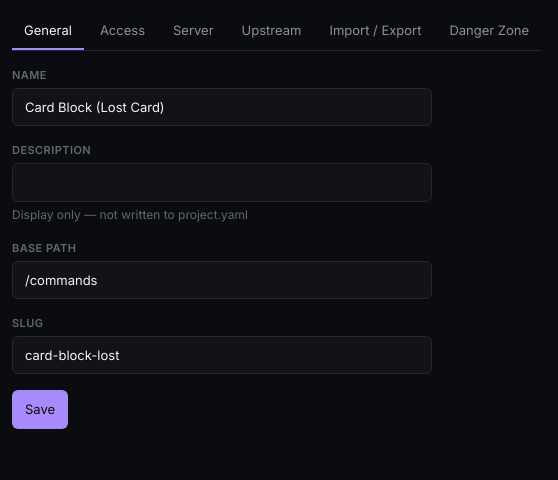
Test case: SettingsTabs › General tab saves for real via PATCH
What coordinates should you click on to do the following:
click the button "Save"
I would click on:
 (40, 410)
Its box is [12,390,68,429].
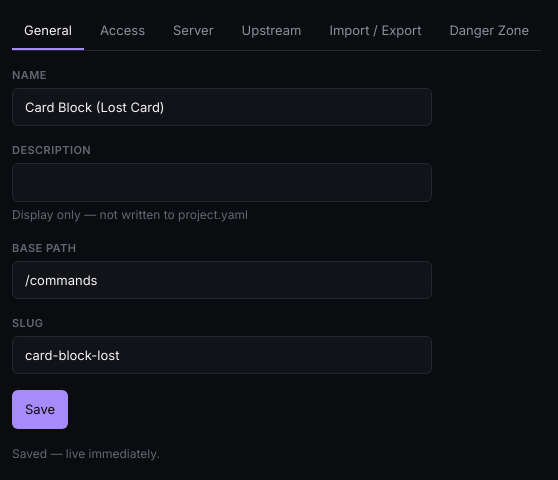
Result: the text "Saved — live immediately." is shown at [12,445,160,463]
